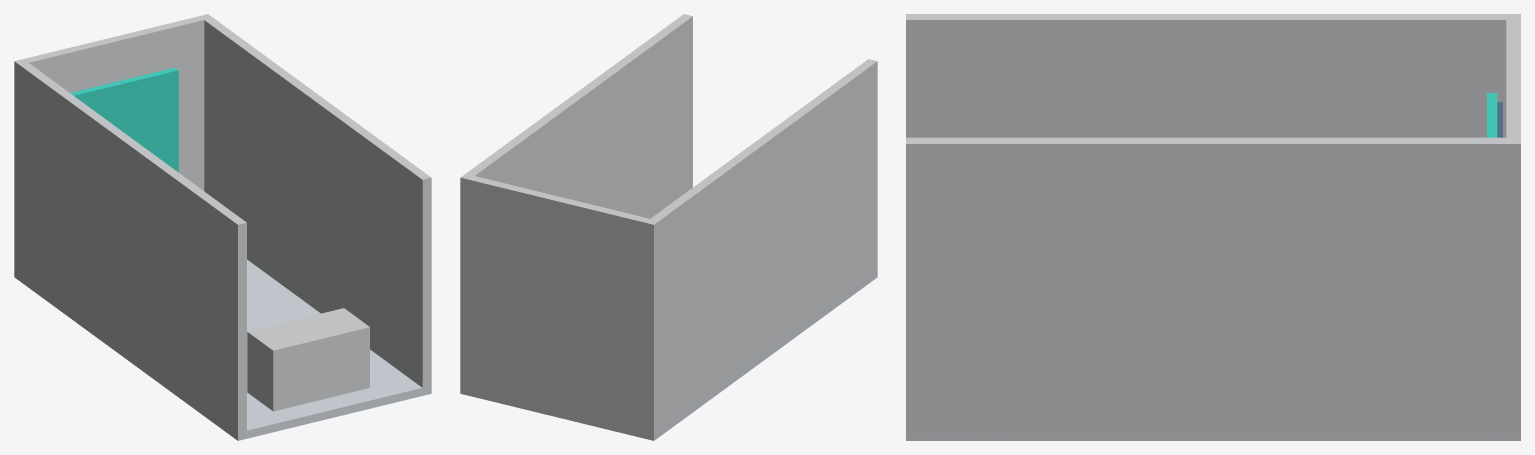
The picture shows the model from 3 angles, left to right: view 1: azimuth 30°, elevation 25°; view 2: azimuth 150°, elevation 25°; view 3: azimuth 270°, elevation 25°; orthographic projection. The views are drawn at different scales.
Parts seen in each view (by area): view 1: Exhibition Booth Concept; view 2: Exhibition Booth Concept; view 3: Exhibition Booth Concept.
Part boxes in pixels (x1,y1,x2,y2): Exhibition Booth Concept: (14,14,431,440); Exhibition Booth Concept: (460,14,877,440); Exhibition Booth Concept: (906,14,1520,440).
Bounding box in the file's own units: 3 × 3.2 × 6.
